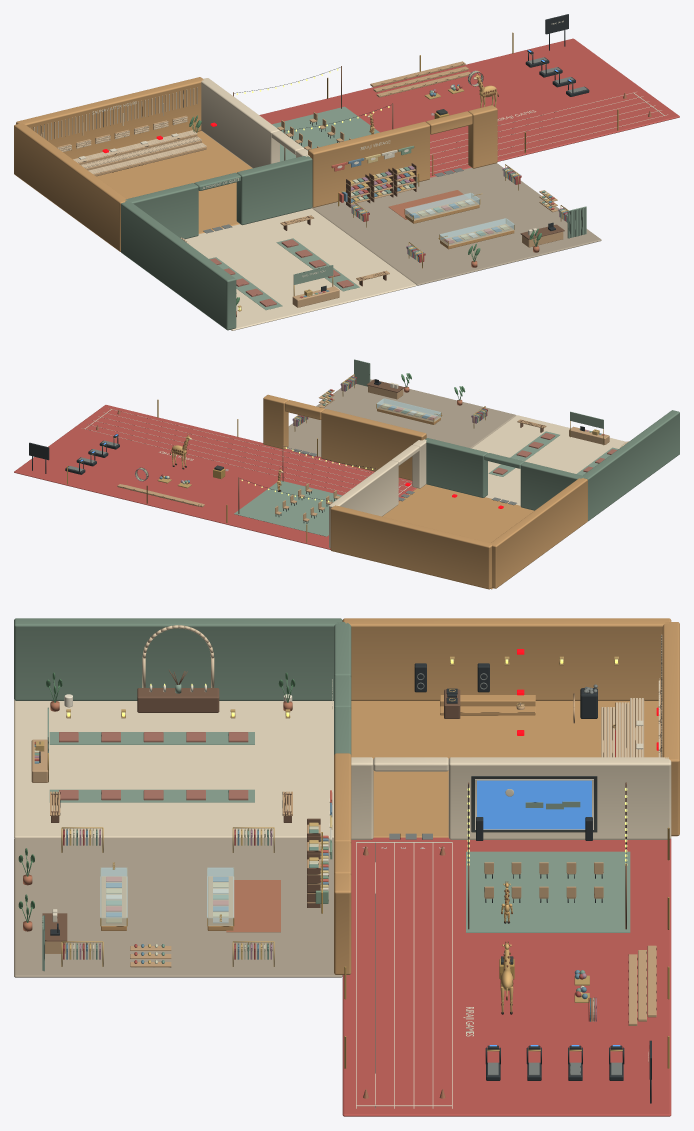
The model's file is baked.glb.
3 renders of one model, top to bottom at view 1: azimuth 30°, elevation 25°; view 2: azimuth 150°, elevation 25°; view 3: azimuth 270°, elevation 25°, orthographic. The views are drawn at different scales.
Parts seen in each view (by area): view 1: module_0_0_Sauna_Floor.001, module_0_0_West_Bench_Tier_0.001, module_0_0_Showcase_Top_Glass.003, module_0_0_Showcase_Top_Glass.002; view 2: module_0_0_Sauna_Floor.001, module_0_0_West_Bench_Tier_0.001, module_0_0_Showcase_Top_Glass.002; view 3: module_0_0_Sauna_Floor.001, module_0_0_West_Bench_Tier_0.001, module_0_0_V06_Cinema_screen_content.001, module_0_0_Showcase_Top_Glass.002, module_0_0_Showcase_Top_Glass.003.
Part boxes in pixels (<box>): module_0_0_Sauna_Floor.001: <box>14,38,679,330</box>; module_0_0_West_Bench_Tier_0.001: <box>30,14,668,316</box>; module_0_0_Showcase_Top_Glass.003: <box>405,193,479,215</box>; module_0_0_Showcase_Top_Glass.002: <box>439,218,514,240</box>; module_0_0_Sauna_Floor.001: <box>14,379,679,589</box>; module_0_0_West_Bench_Tier_0.001: <box>29,359,628,542</box>; module_0_0_Showcase_Top_Glass.002: <box>376,398,441,417</box>; module_0_0_Sauna_Floor.001: <box>14,618,679,1116</box>; module_0_0_West_Bench_Tier_0.001: <box>18,625,669,1108</box>; module_0_0_V06_Cinema_screen_content.001: <box>477,780,591,829</box>; module_0_0_Showcase_Top_Glass.002: <box>100,867,127,918</box>; module_0_0_Showcase_Top_Glass.003: <box>207,867,234,918</box>.
Size of what is drawn, in the model's own units: 72.63 by 7 by 48.63.
7 materials, 2 textured.
